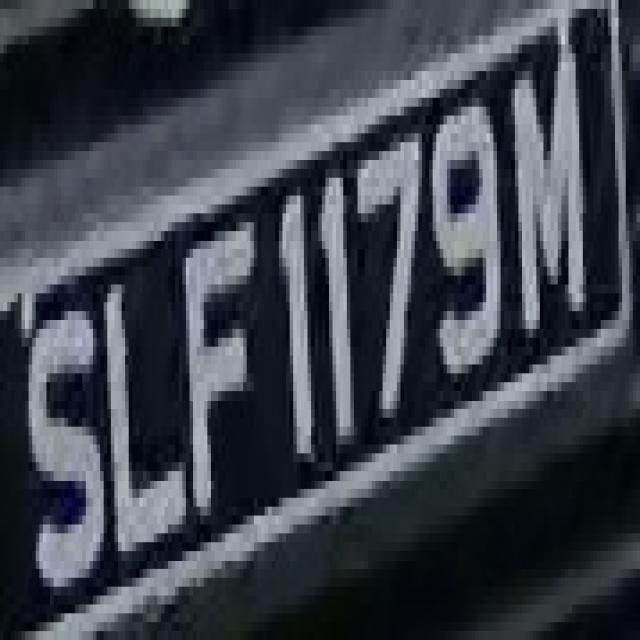1: (308, 178, 364, 480), (272, 187, 318, 489)
7: (347, 151, 436, 445)
9: (422, 89, 504, 418)
F: (175, 196, 258, 551)
L: (93, 258, 182, 560)
M: (508, 62, 594, 356)
S: (25, 284, 104, 614)
